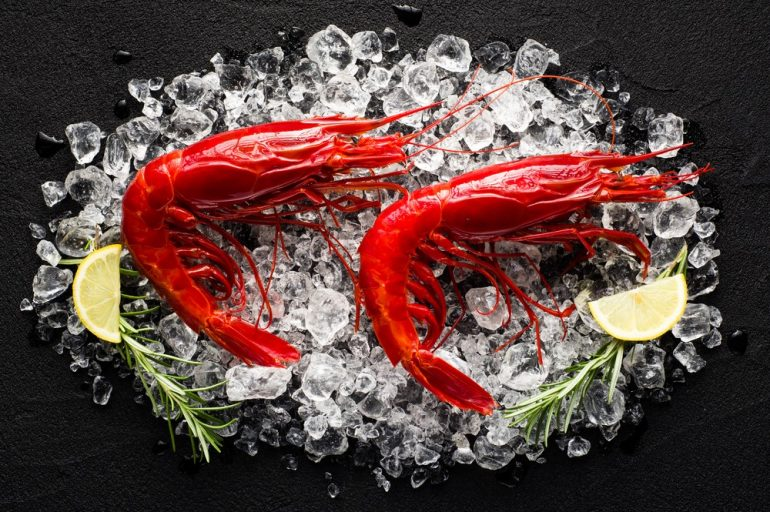Red Prawn: (362, 155, 686, 415), (117, 117, 359, 371)
